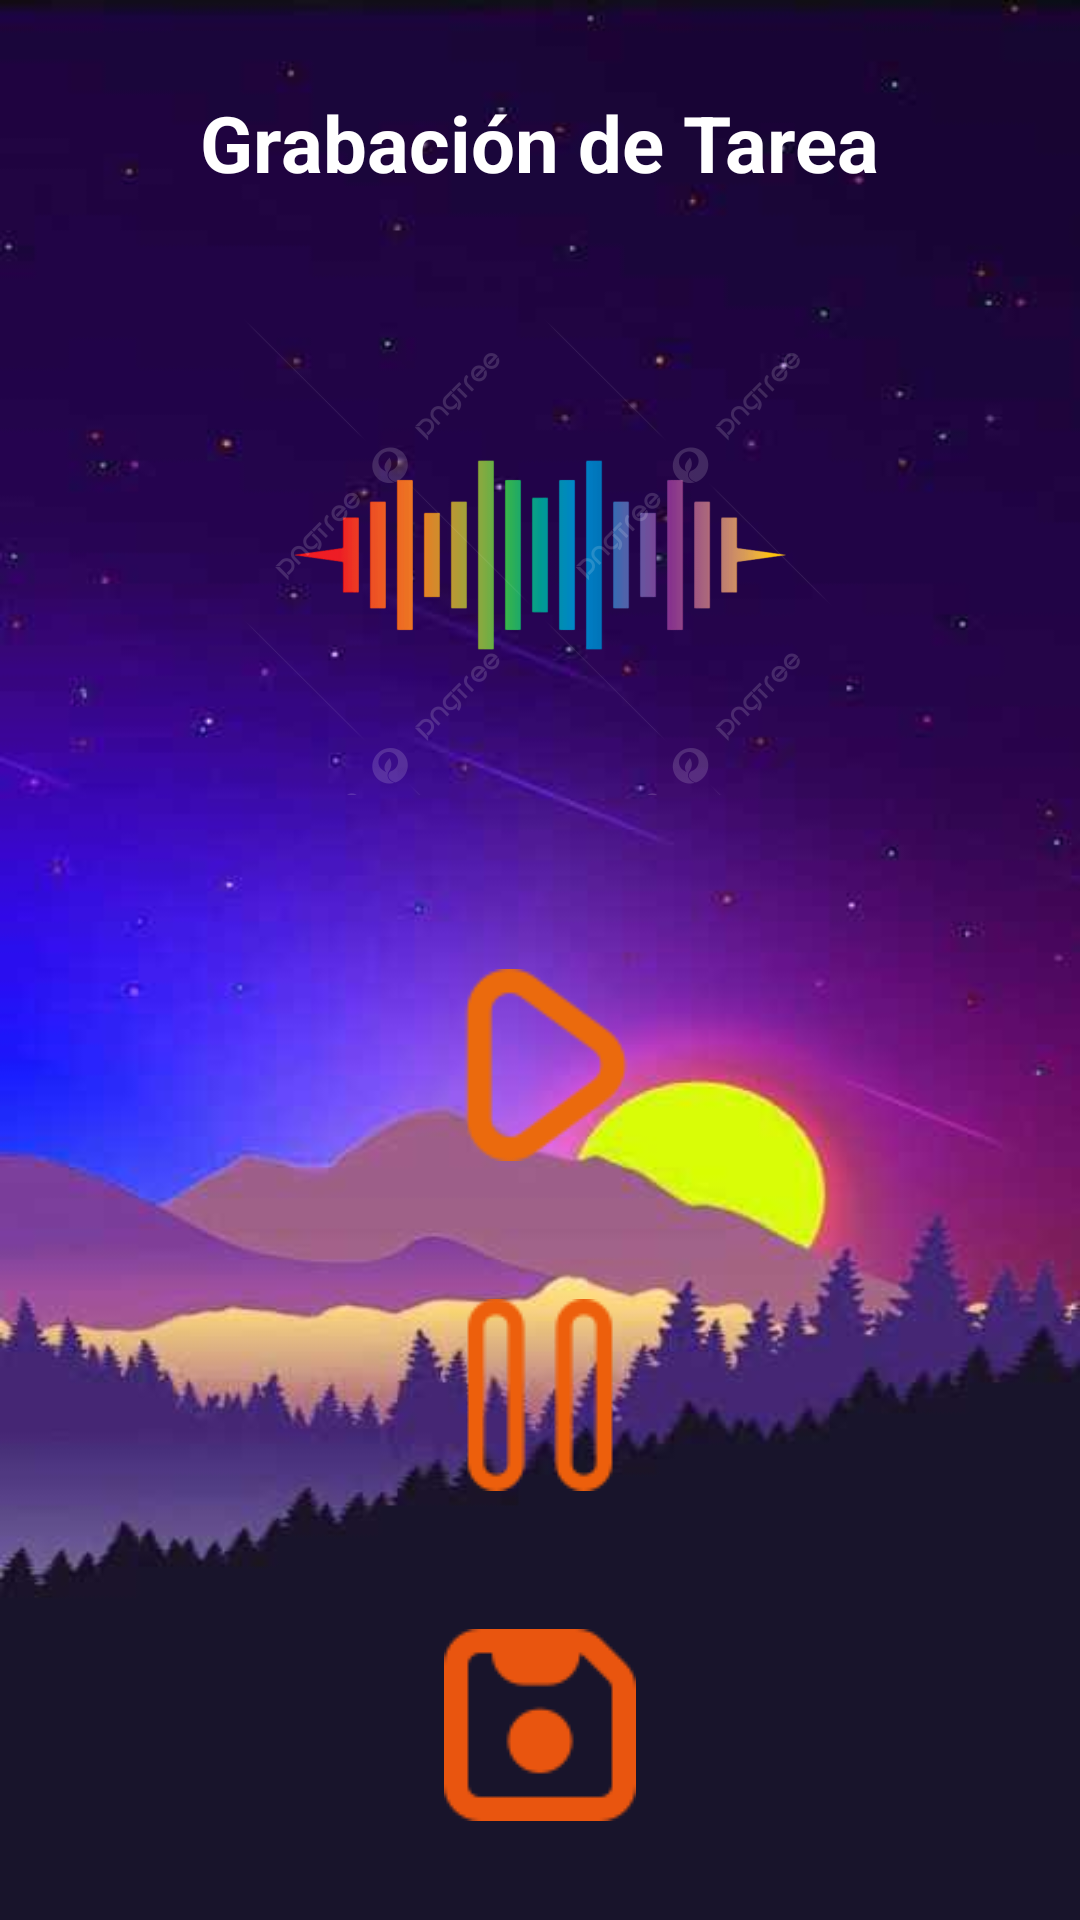

Icon bounding boxes for this 1080 x 1920 phone screenshot, format (x1, y1, x2, y2):
Guardar Grabación: (444, 1629, 636, 1821)
